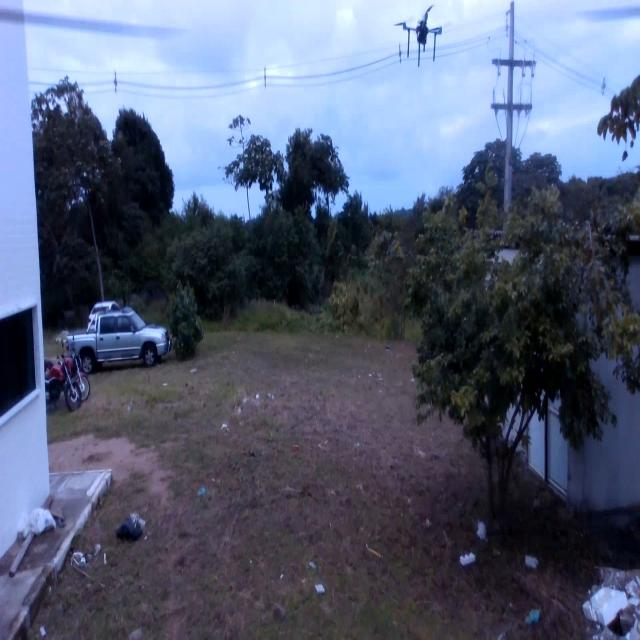-uav-: (394, 0, 448, 74)
